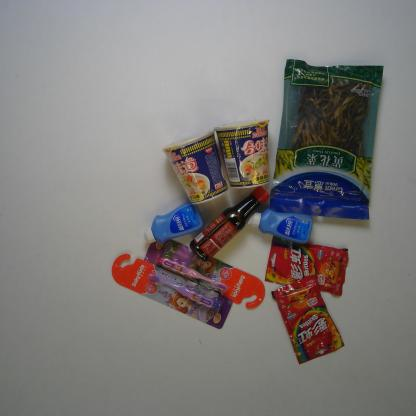Candy: (269, 272, 346, 367), (264, 235, 350, 297)
Dried Food: (269, 58, 386, 221)
Instant Noodles: (160, 127, 230, 207), (212, 116, 272, 191)
Personal Hygiene: (111, 252, 233, 330), (143, 238, 268, 310), (144, 201, 206, 244), (246, 207, 315, 245)
Seasoner: (189, 184, 272, 263)
